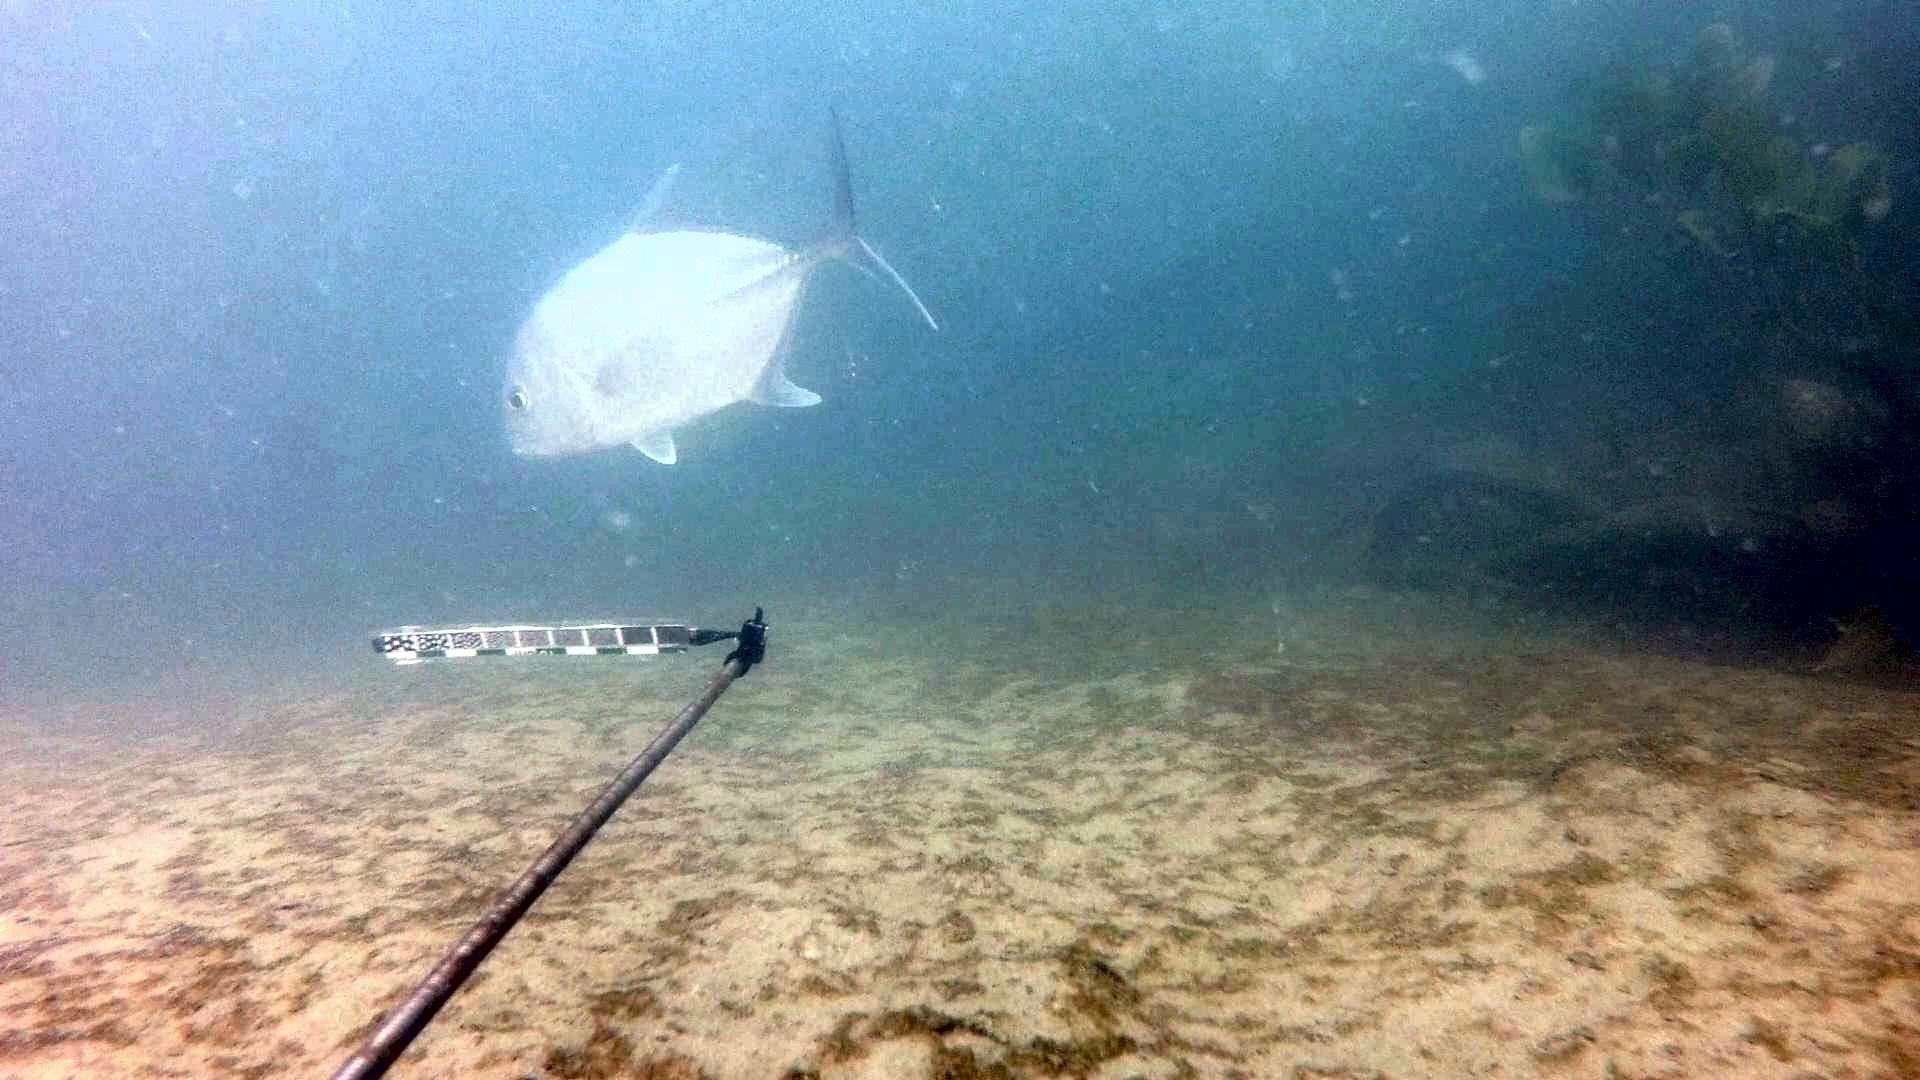caranx: (474, 100, 956, 469)
